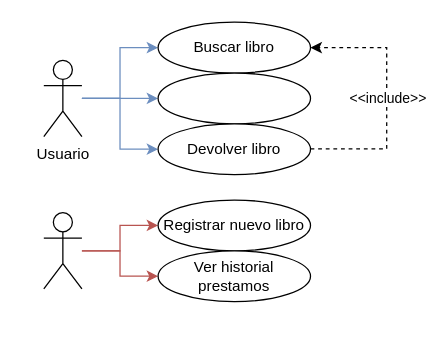
This 448x338 diagram has some shape labels left out. Each missing label, with the centre of its shape:
"Bibliotecario" goes at (62,250).
"Prestar libro" goes at (234,98).
